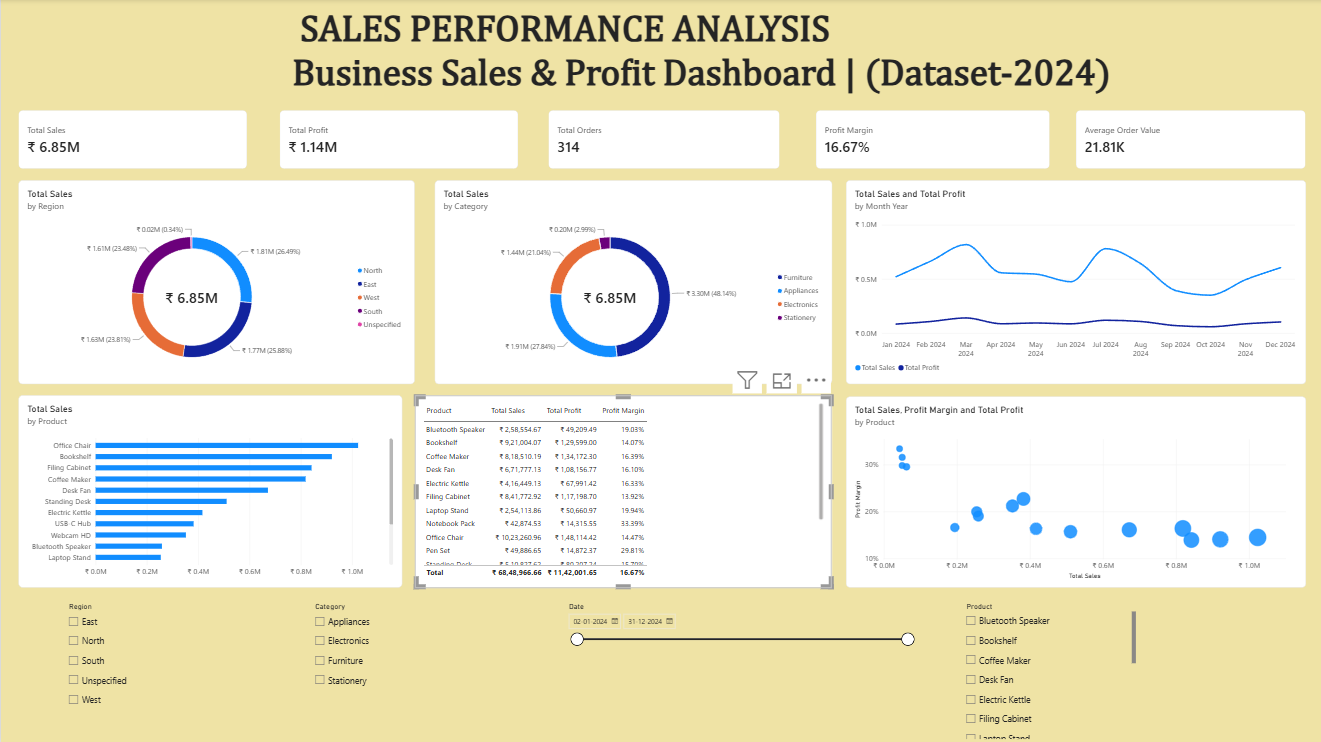

What the dashboard file says about the page in this screenshot:
{"tool":"powerbi","page":{"name":"Sales_Overview","canvas":[2560,1440],"ordinal":0},"visuals":[{"type":"textbox","box":[562.2,0,2782.1,289.5],"z":0},{"type":"textbox","box":[10,290,280,280],"z":1000},{"type":"textbox","box":[10,580,280,280],"z":2000},{"type":"cardVisual","fields":{"Data":["Cleaned_Data.Total Sales"]},"box":[33.8,260.6,441.6,94.1],"z":3000},{"type":"cardVisual","fields":{"Data":["Cleaned_Data.Total Profit"]},"box":[542.9,260.6,460.9,94.1],"z":4000},{"type":"cardVisual","fields":{"Data":["Cleaned_Data.Total Orders"]},"box":[1071.3,260.6,446.4,94.1],"z":5000},{"type":"cardVisual","fields":{"Data":["Cleaned_Data.Profit Margin"]},"box":[1585.3,260.6,436.7,94.1],"z":6000},{"type":"cardVisual","fields":{"Data":["Cleaned_Data.Average Order Value"]},"box":[2106.4,260.6,412.6,94.1],"z":7000},{"type":"lineChart","fields":{"Category":["DateTable.Month Year"],"Y":["Cleaned_Data.Total Sales","Cleaned_Data.Total Profit"]},"box":[1631.1,371.6,887.9,393.3],"z":8000},{"type":"donutChart","fields":{"Category":["Cleaned_Data.Region"],"Y":["Cleaned_Data.Total Sales"]},"box":[33.8,371.6,764.9,393.3],"z":9000},{"type":"donutChart","fields":{"Category":["Cleaned_Data.Category"],"Y":["Cleaned_Data.Total Sales"]},"box":[837.3,371.6,767.3,393.3],"z":10000},{"type":"barChart","fields":{"Category":["Cleaned_Data.Product"],"Y":["Cleaned_Data.Total Sales"]},"box":[33.8,786.6,740.8,349.9],"z":11000},{"type":"tableEx","fields":{"Values":["Cleaned_Data.Product","Cleaned_Data.Total Sales","Cleaned_Data.Total Profit","Cleaned_Data.Profit Margin"]},"box":[798.7,786.6,805.9,349.9],"z":12000},{"type":"slicer","fields":{"Values":["Cleaned_Data.Region"]},"box":[123.1,1163,352.3,265.4],"z":13000},{"type":"slicer","fields":{"Values":["Cleaned_Data.Category"]},"box":[598.4,1163,400.5,265.4],"z":14000},{"type":"scatterChart","fields":{"Category":["Cleaned_Data.Product"],"Size":["Cleaned_Data.Total Profit"],"X":["Cleaned_Data.Total Sales"],"Y":["Cleaned_Data.Profit Margin"]},"box":[1631.1,789,887.9,347.5],"z":15000},{"type":"slicer","fields":{"Values":["DateTable.Date"]},"box":[1088.2,1163,678,154.4],"z":16000},{"type":"slicer","fields":{"Values":["Cleaned_Data.Product"]},"box":[1855.5,1163,335.4,265.4],"z":17000}]}

Visuals, with their boxes in screenshot pixels (x1, y1, x2, y2), scaled from the page's 2560x1440 canvas onto the 1321x742 screenshot:
textbox: bbox(290, 0, 1320, 149)
textbox: bbox(5, 149, 150, 294)
textbox: bbox(5, 299, 150, 443)
cardVisual - Cleaned_Data.Total Sales: bbox(17, 134, 245, 183)
cardVisual - Cleaned_Data.Total Profit: bbox(280, 134, 518, 183)
cardVisual - Cleaned_Data.Total Orders: bbox(553, 134, 783, 183)
cardVisual - Cleaned_Data.Profit Margin: bbox(818, 134, 1043, 183)
cardVisual - Cleaned_Data.Average Order Value: bbox(1087, 134, 1300, 183)
lineChart - DateTable.Month Year x Cleaned_Data.Total Sales: bbox(842, 191, 1300, 394)
donutChart - Cleaned_Data.Region x Cleaned_Data.Total Sales: bbox(17, 191, 412, 394)
donutChart - Cleaned_Data.Category x Cleaned_Data.Total Sales: bbox(432, 191, 828, 394)
barChart - Cleaned_Data.Product x Cleaned_Data.Total Sales: bbox(17, 405, 400, 586)
tableEx - Cleaned_Data.Product x Cleaned_Data.Total Sales: bbox(412, 405, 828, 586)
slicer - Cleaned_Data.Region: bbox(64, 599, 245, 736)
slicer - Cleaned_Data.Category: bbox(309, 599, 515, 736)
scatterChart - Cleaned_Data.Product x Cleaned_Data.Total Profit: bbox(842, 407, 1300, 586)
slicer - DateTable.Date: bbox(562, 599, 911, 679)
slicer - Cleaned_Data.Product: bbox(957, 599, 1131, 736)
